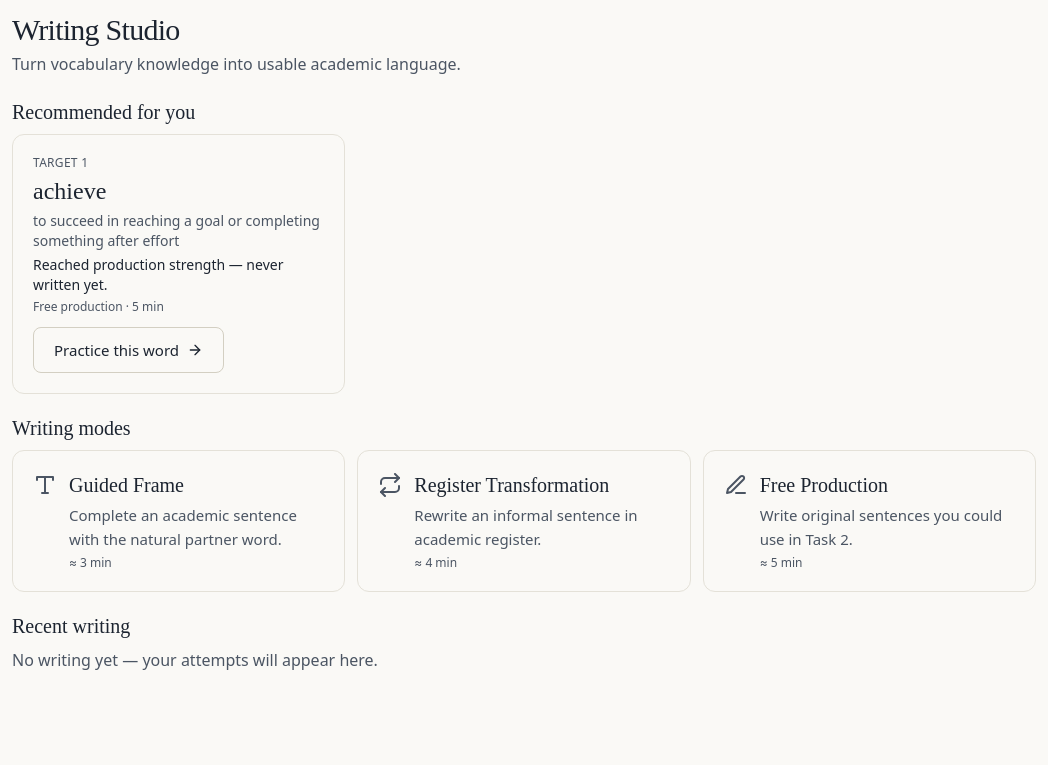
it: Writing Studio redesigned flow › restores an interrupted draft with a notice
Click the button "Practice this word": {"x": 129, "y": 350} [33,327,224,373]
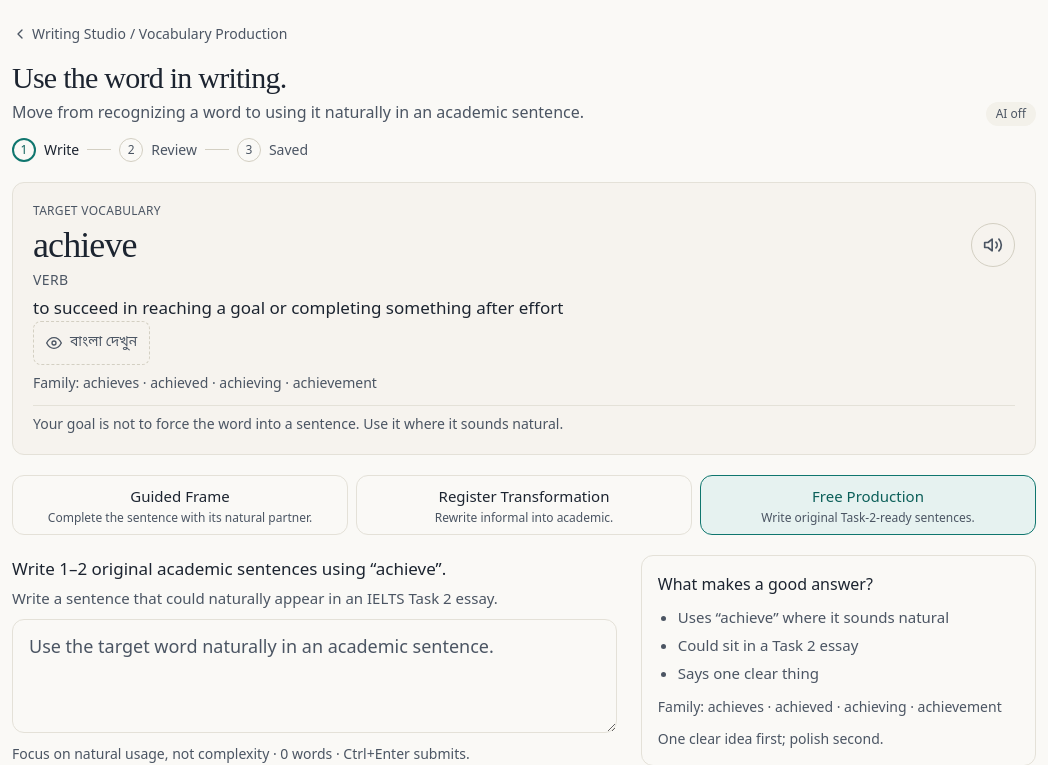
In the text box named "Your sentence": {"x": 314, "y": 676} [12,619,617,733], type "A draft about achieve here."
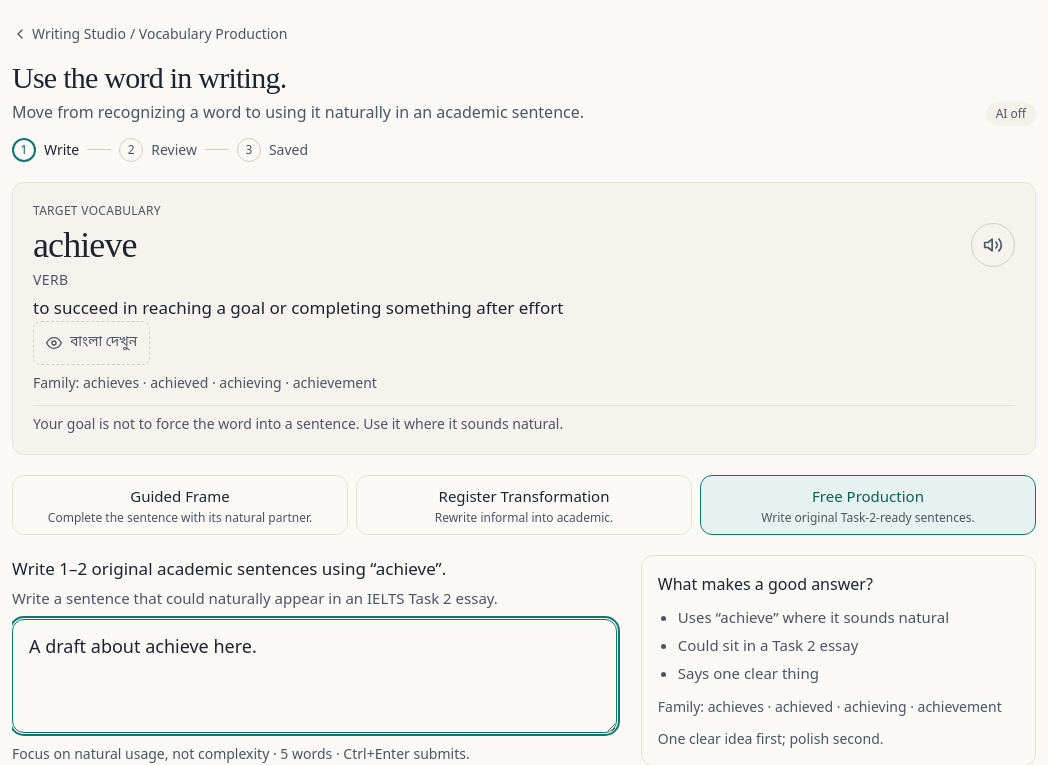
Click the button "Writing Studio / Vocabulary Production": {"x": 150, "y": 34} [12,12,288,56]
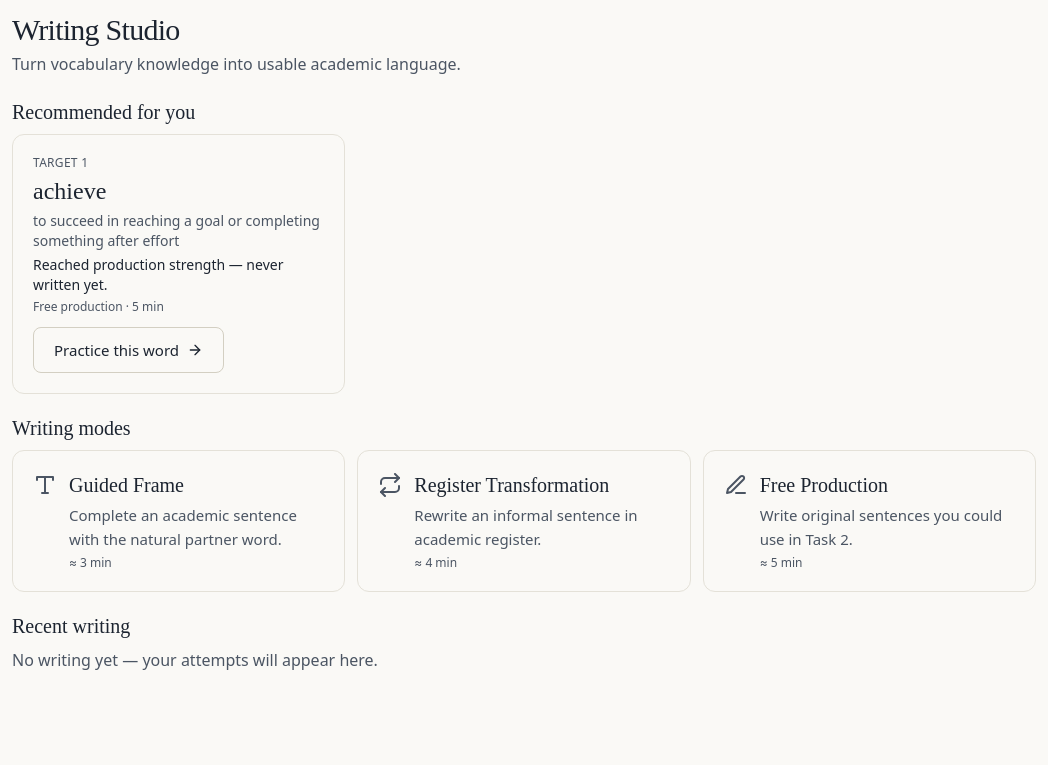
Click the button "Practice this word": {"x": 129, "y": 350} [33,327,224,373]
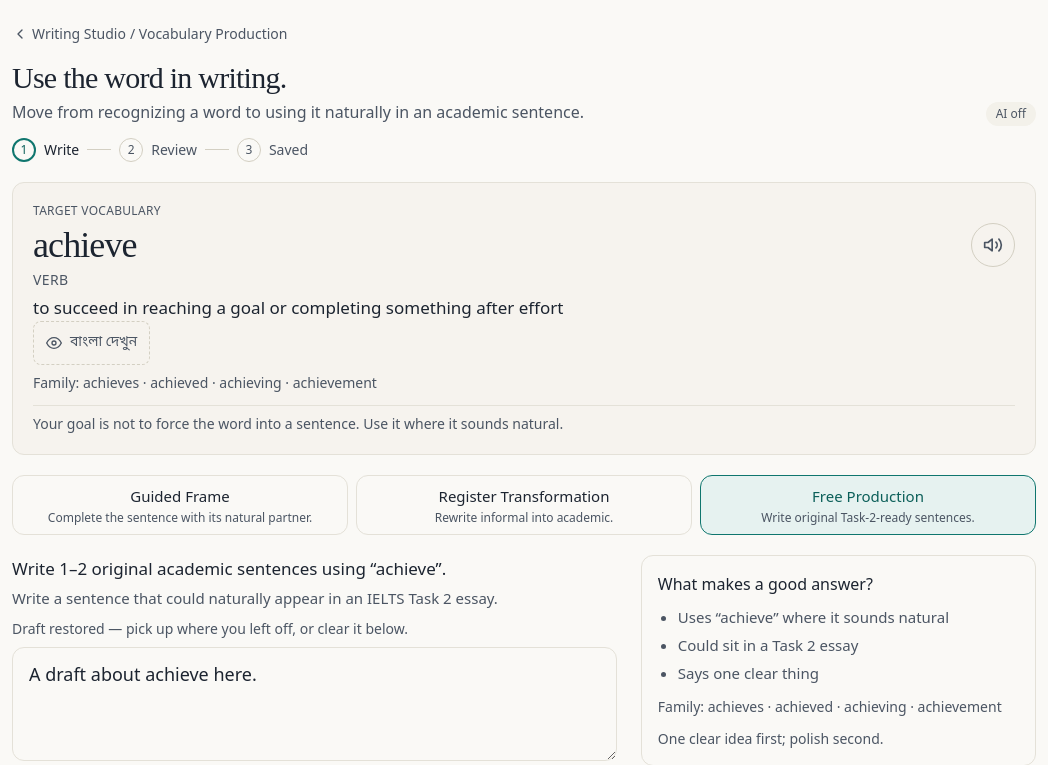
Result: the text "Draft restored" is shown at [12,619,408,638]
Result: the text box named "Your sentence" holds "A draft about achieve here." at [12,647,617,761]
